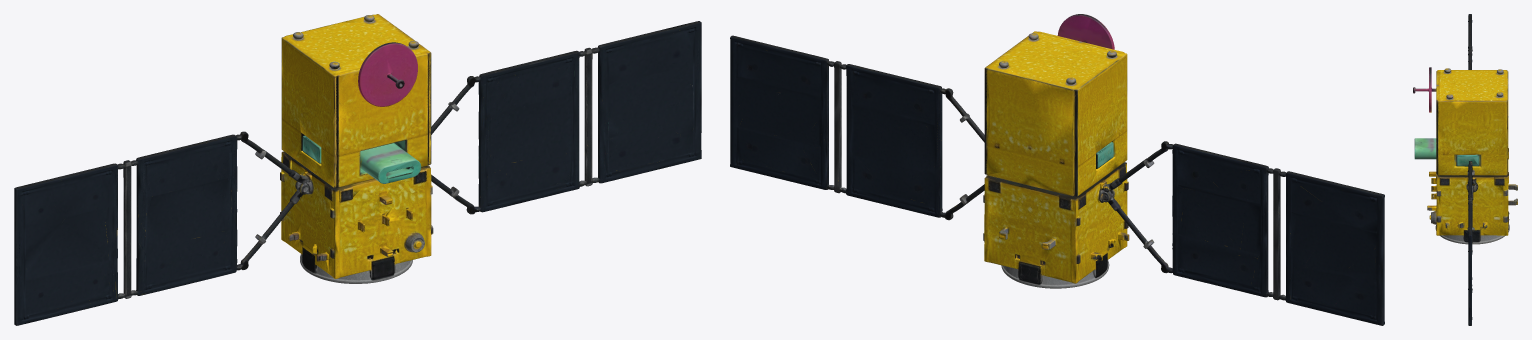
Rendered from modelo_2.glb.
The picture shows the model from 3 angles, left to right: view 1: azimuth 30°, elevation 25°; view 2: azimuth 150°, elevation 25°; view 3: azimuth 270°, elevation 25°; orthographic projection. The views are drawn at different scales.
Visible parts, largest first — view 1: Mesh_0; view 2: Mesh_0; view 3: Mesh_0.
Boxes of the visible parts, x1,y1,x2,y2 form: Mesh_0: [14, 14, 701, 325]; Mesh_0: [730, 14, 1384, 325]; Mesh_0: [1413, 14, 1517, 325].
Bounding box in the file's own units: 1.9 × 0.6374 × 0.3806.
1 material, 1 textured.
